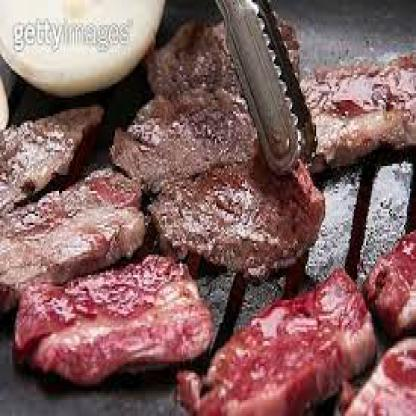Carne: (152, 161, 326, 277), (0, 176, 158, 297), (0, 104, 118, 214), (111, 94, 250, 176), (312, 52, 414, 152), (144, 27, 232, 91)
